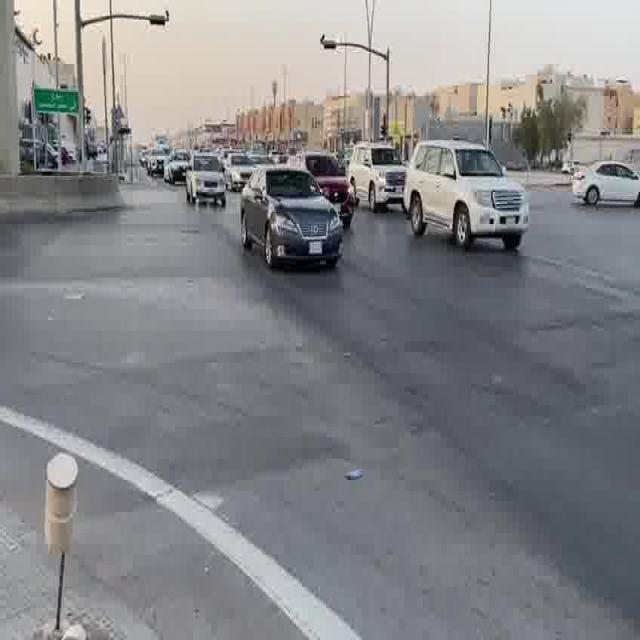bus: (572, 161, 638, 208), (166, 150, 193, 185)
car: (179, 209, 640, 640), (572, 161, 638, 208), (166, 150, 193, 185)
lanes: (179, 209, 640, 640), (226, 209, 639, 634)
lanes2: (226, 209, 639, 634), (260, 205, 640, 474)
lanes3: (260, 205, 640, 474), (286, 201, 640, 404)
lanes4: (286, 201, 640, 404), (327, 192, 640, 313)
lanes5: (327, 192, 640, 313)
motorbike: (405, 134, 529, 248), (239, 165, 341, 270), (348, 142, 406, 212), (302, 148, 353, 219), (186, 156, 227, 208), (224, 152, 259, 191)
truck: (405, 134, 529, 248), (239, 165, 341, 270), (348, 142, 406, 212), (302, 148, 353, 219), (186, 156, 227, 208), (224, 152, 259, 191)
